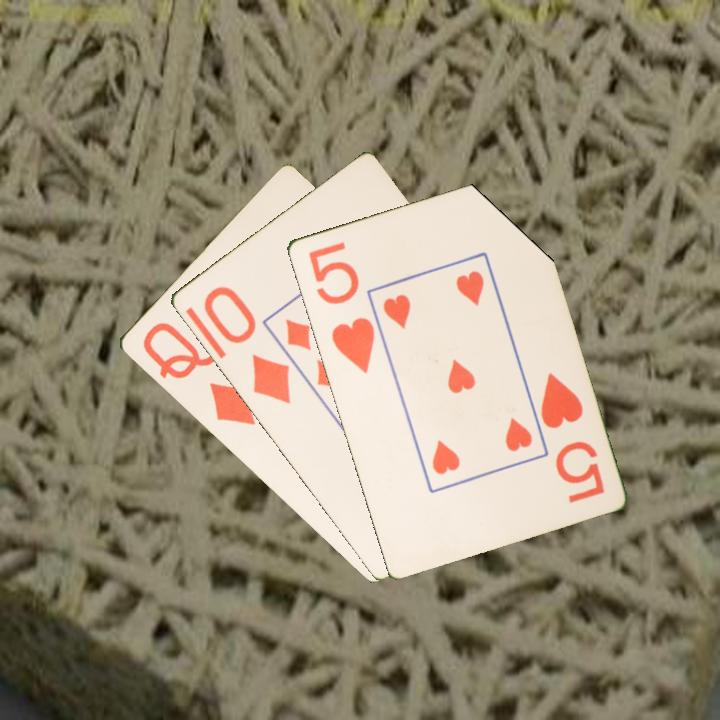10d: (199, 282, 293, 407)
5h: (304, 237, 377, 376), (536, 368, 607, 506)
Qd: (138, 318, 258, 428)
